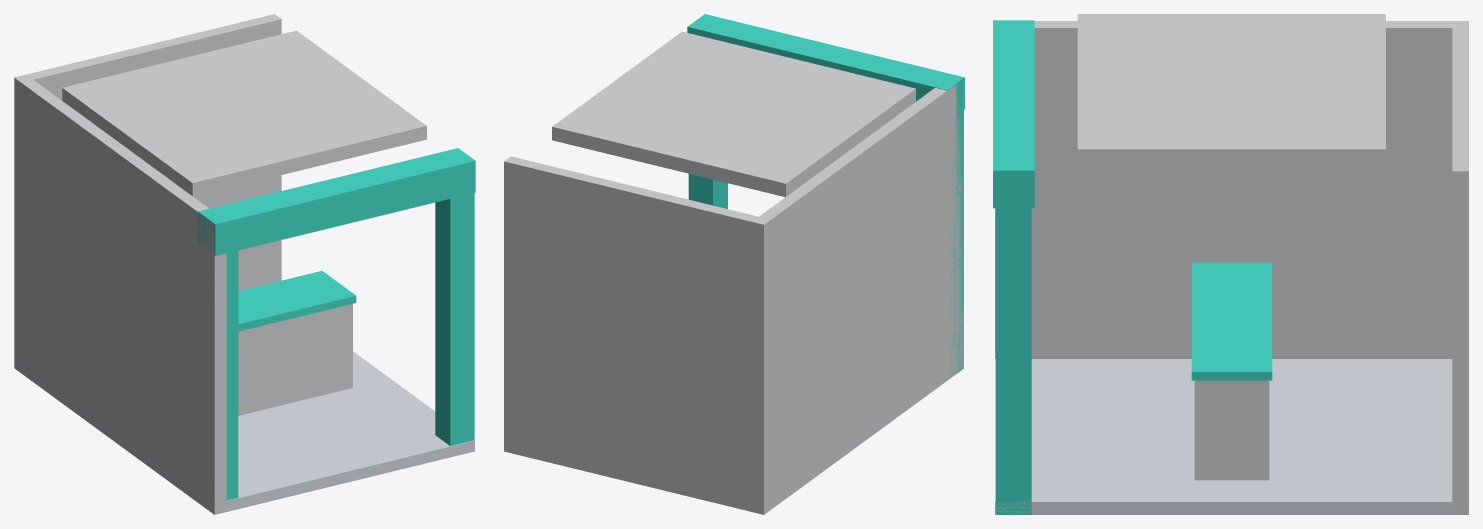
3 renders of one model, left to right at view 1: azimuth 30°, elevation 25°; view 2: azimuth 150°, elevation 25°; view 3: azimuth 270°, elevation 25°, orthographic. The views are drawn at different scales.
Parts seen in each view (by area): view 1: Exhibition Booth Concept; view 2: Exhibition Booth Concept; view 3: Exhibition Booth Concept.
Boxes of the visible parts, x1,y1,x2,y2 form: Exhibition Booth Concept: (14, 14, 475, 514); Exhibition Booth Concept: (504, 14, 964, 514); Exhibition Booth Concept: (993, 14, 1468, 514).
Size of the model in its own units: 3 by 3.34 by 4.02.
